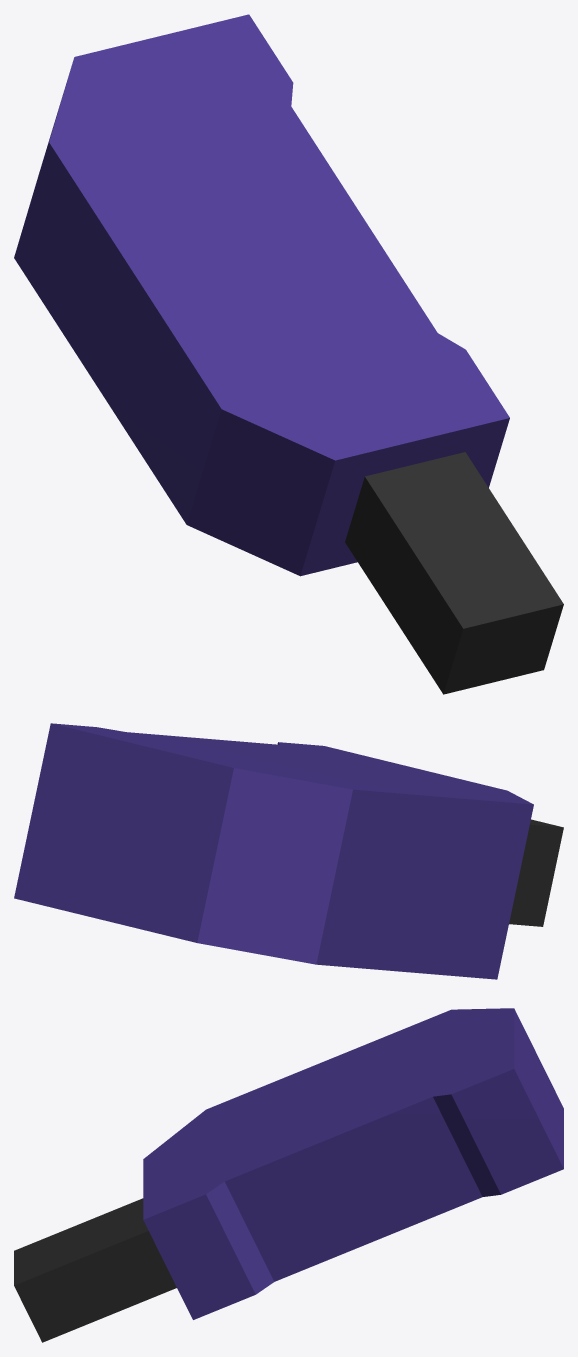
Rendered from AssaultRifle2_06_4.fbx.
3 renders of one model, top to bottom at view 1: azimuth 30°, elevation 25°; view 2: azimuth 150°, elevation 25°; view 3: azimuth 270°, elevation 25°, orthographic. The views are drawn at different scales.
Visible parts, largest first — view 1: AssaultRifle2_06_4; view 2: AssaultRifle2_06_4; view 3: AssaultRifle2_06_4.
Boxes of the visible parts, x1,y1,x2,y2 form: AssaultRifle2_06_4: (14, 14, 563, 694); AssaultRifle2_06_4: (14, 723, 563, 979); AssaultRifle2_06_4: (14, 1008, 563, 1342).
Size of the model in its own units: 0.0146 by 0.0231 by 0.0401.
